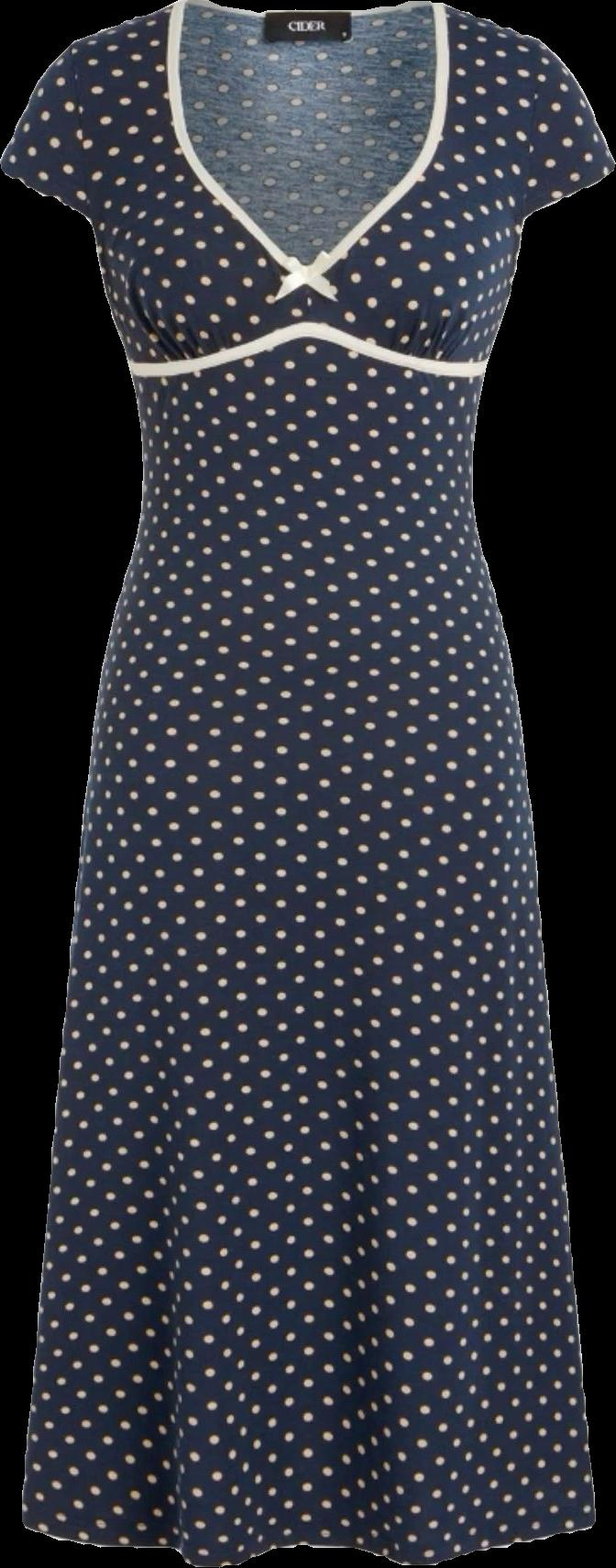Bodice: (76, 0, 554, 495)
Hemline: (20, 1509, 605, 1567)
Neckline: (167, 0, 458, 287), (122, 319, 487, 382)
Skirt: (22, 496, 594, 1567)
Sleeve: (0, 31, 97, 217), (521, 55, 614, 228)
Sleeveline: (511, 48, 566, 225), (65, 32, 95, 217)
